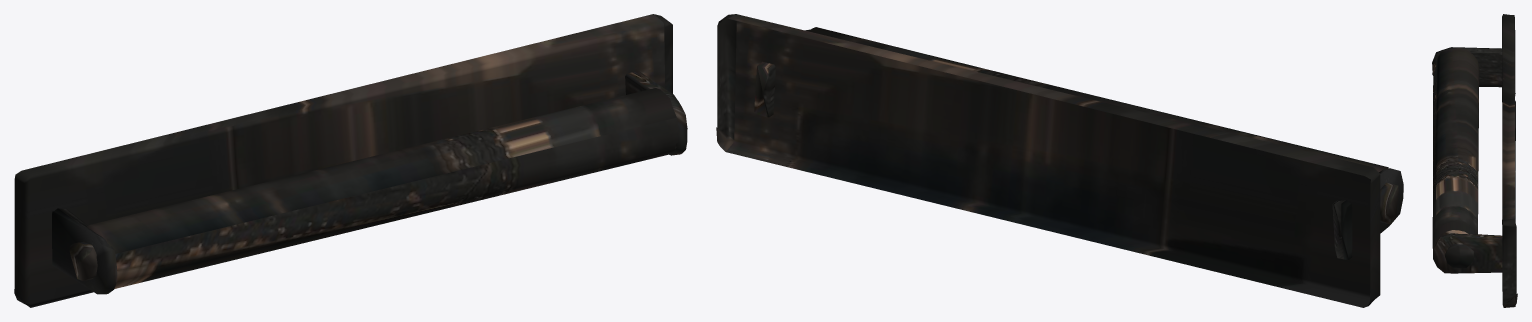
File: Restroom1.fbx
3 renders of one model, left to right at view 1: azimuth 30°, elevation 25°; view 2: azimuth 150°, elevation 25°; view 3: azimuth 270°, elevation 25°, orthographic. The views are drawn at different scales.
Visible parts, largest first — view 1: Restroom1; view 2: Restroom1; view 3: Restroom1.
Boxes of the visible parts, left/top/right/bottom form: Restroom1: left=14, top=14, right=687, bottom=307; Restroom1: left=716, top=14, right=1403, bottom=307; Restroom1: left=1432, top=14, right=1517, bottom=307.
Bounding box in the file's own units: 438 × 85.68 × 75.8.
